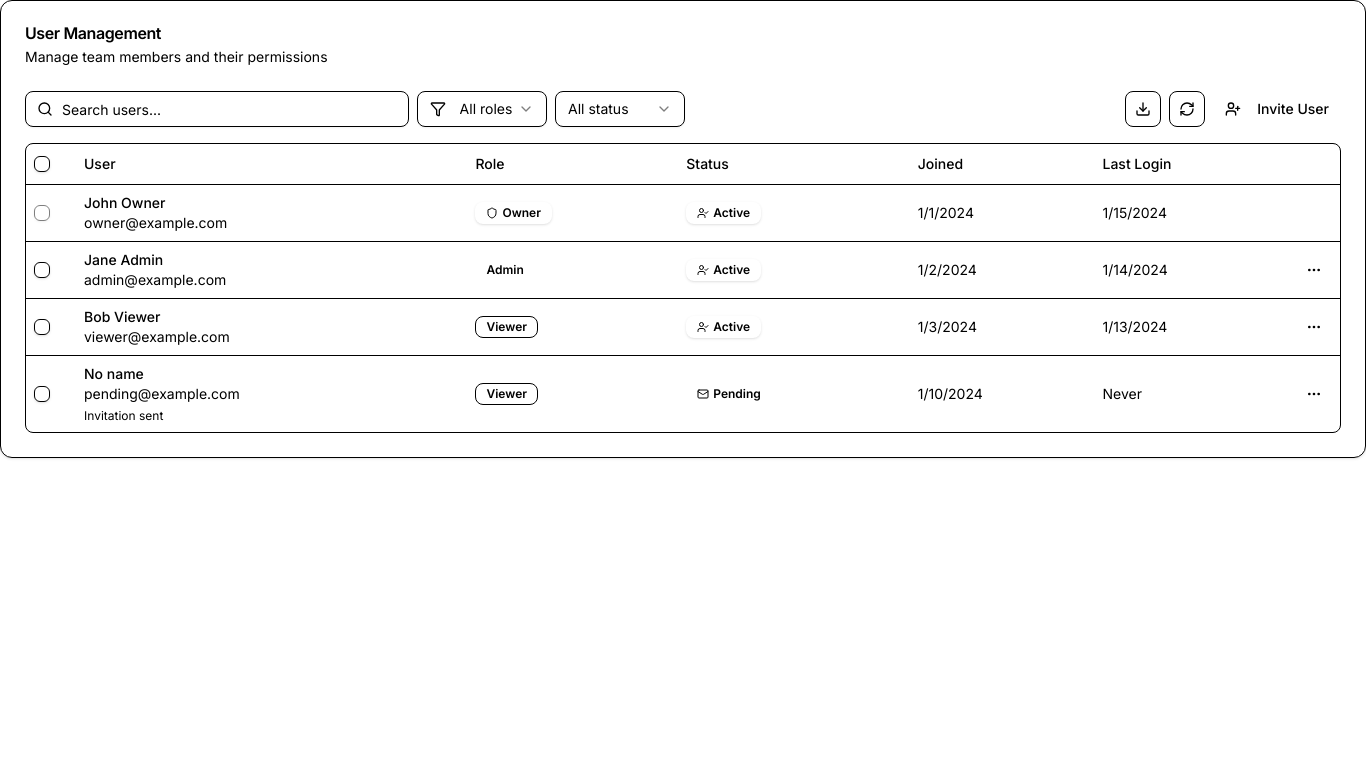
UserManagement › User Invitation › should resend invitation for pending users
The width and height of the screenshot is (1366, 768).
Click the button named "Actions for pending@example.com": point(1314, 394) top-left (1296, 376), bottom-right (1332, 412)
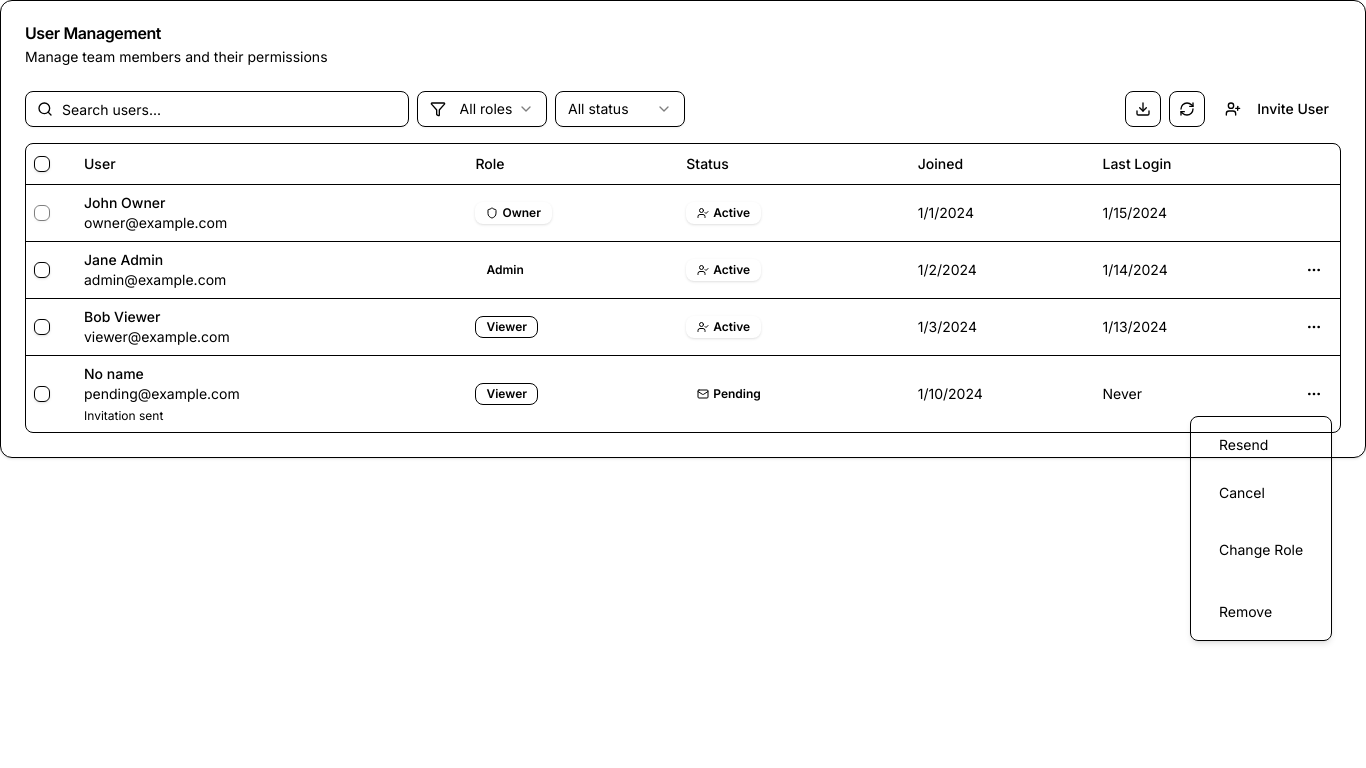
# Now click the Resend button in the dropdown
Click the button "Resend": point(1261, 445) top-left (1203, 427), bottom-right (1319, 463)
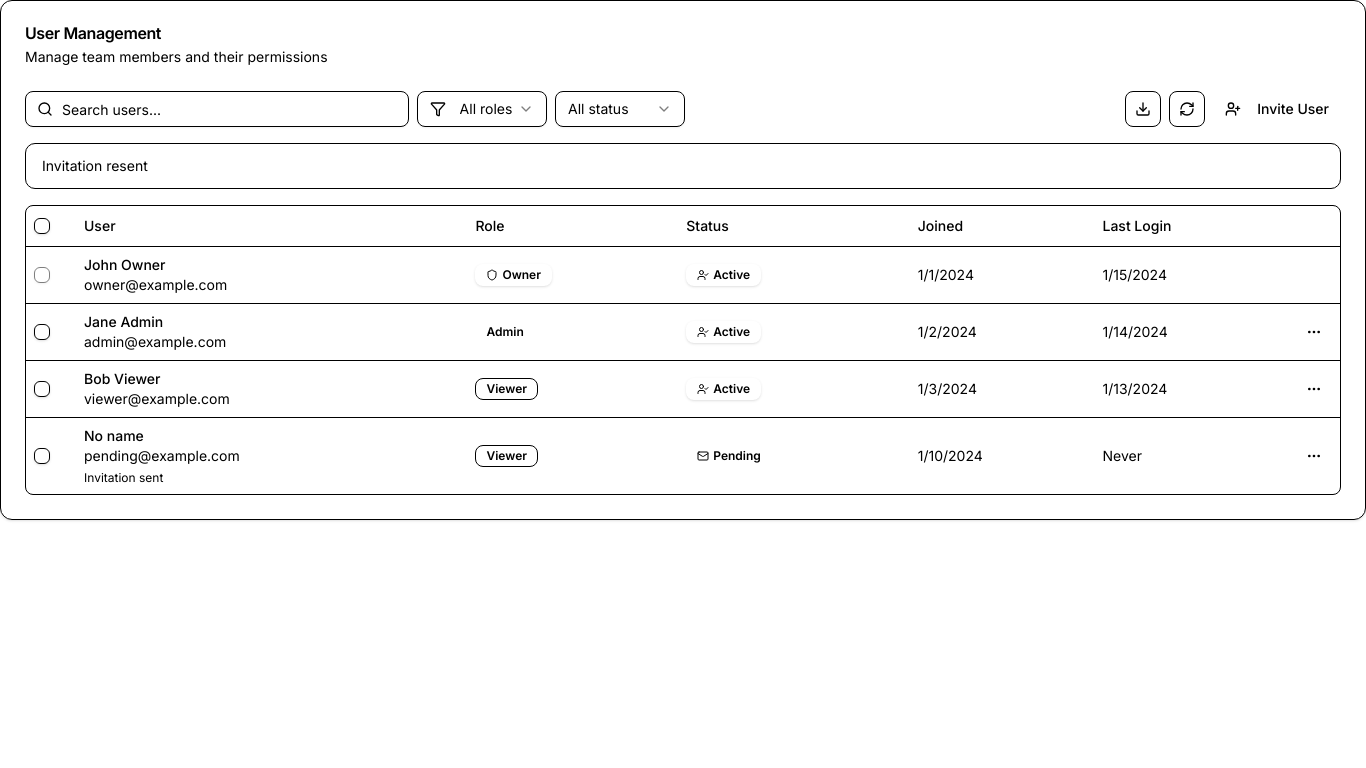
expect the text "Invitation resent" is shown: met, box top-left (42, 157), bottom-right (148, 174)
